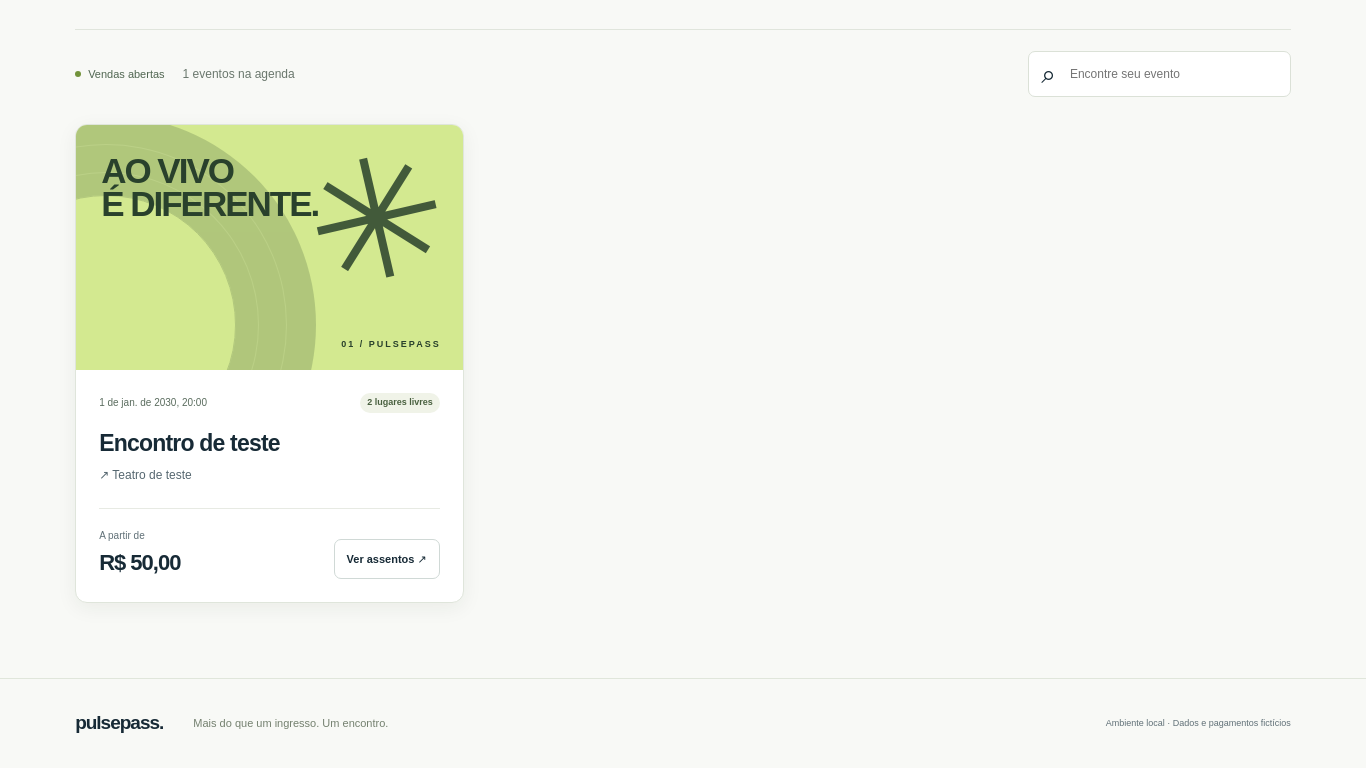
real client journey controls › explains atomic conflict and returns to selection without inventing an order
The image size is (1366, 768).
(page scrolled)
Click the button "Ver assentos ↗". click: (387, 559)
box: 334,539 -> 440,579
(page scrolled)
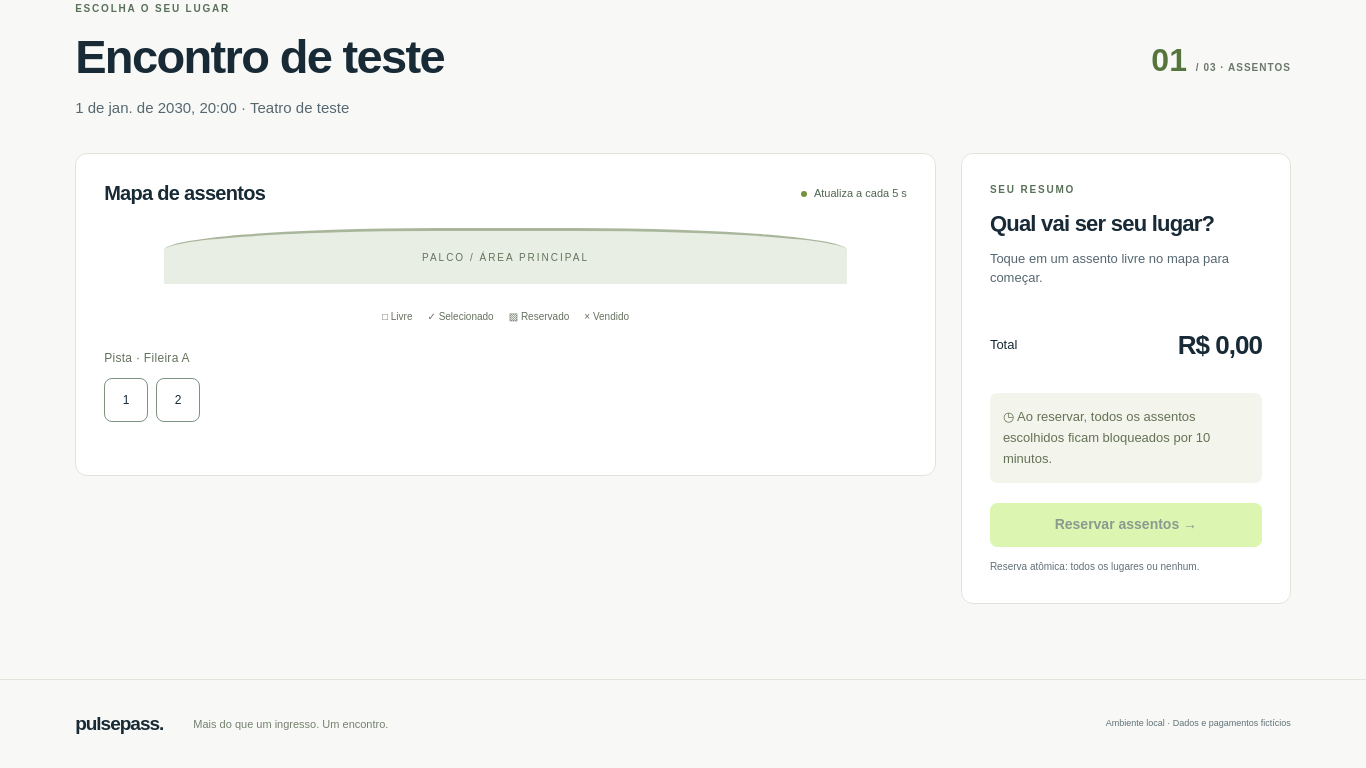
Click the button named "assento 1, Livre". click: (126, 400)
box: 104,378 -> 148,422
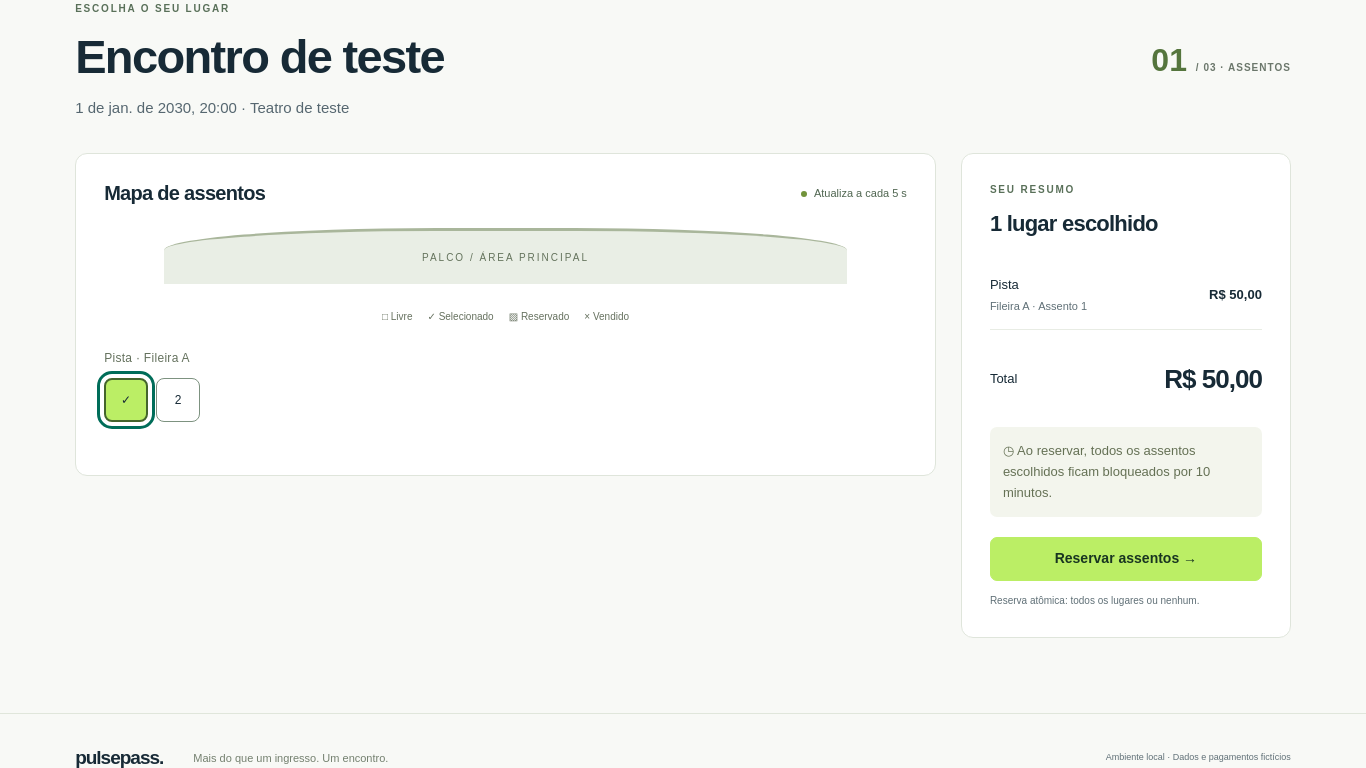
Click the button "Reservar assentos →". click: (1126, 559)
box: 990,537 -> 1262,581
(page scrolled)
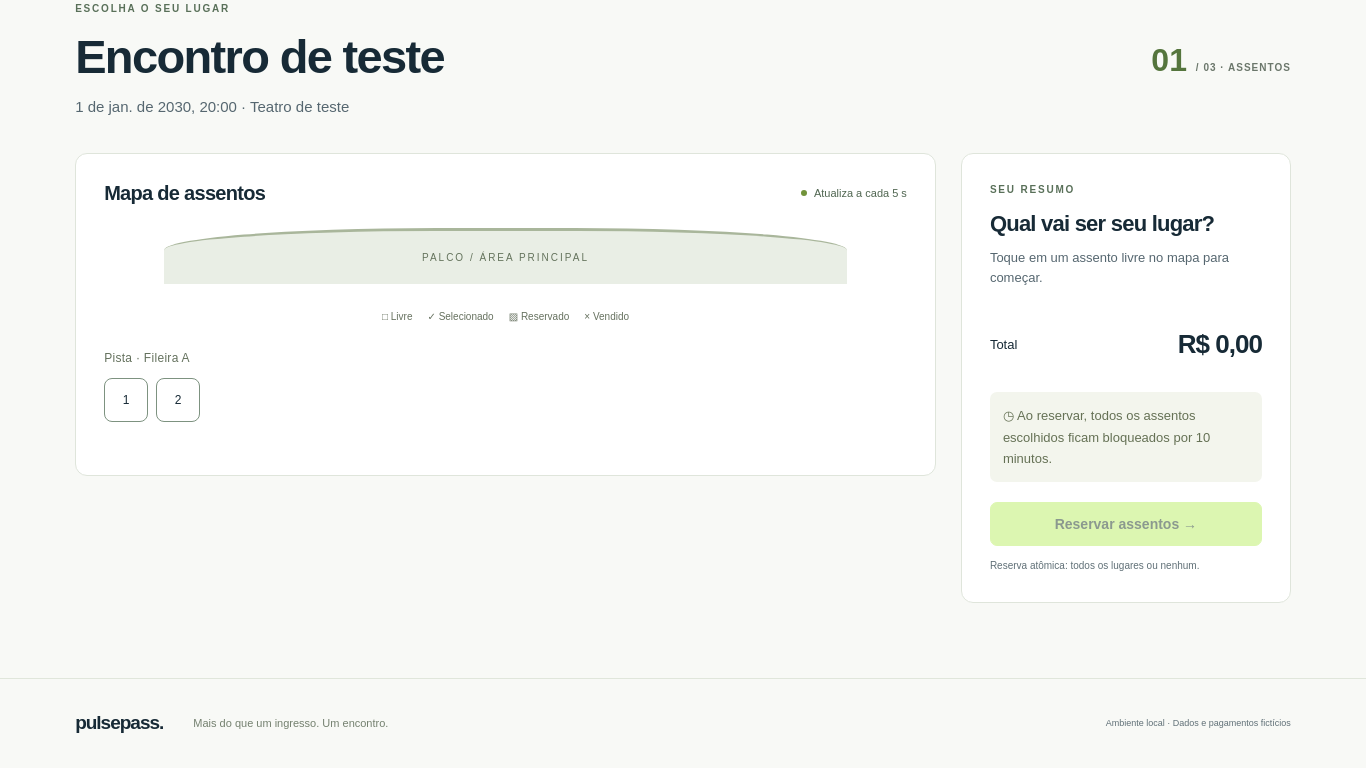
expect the button "Reservar assentos →" is disabled: met, box 990,502 -> 1262,546
